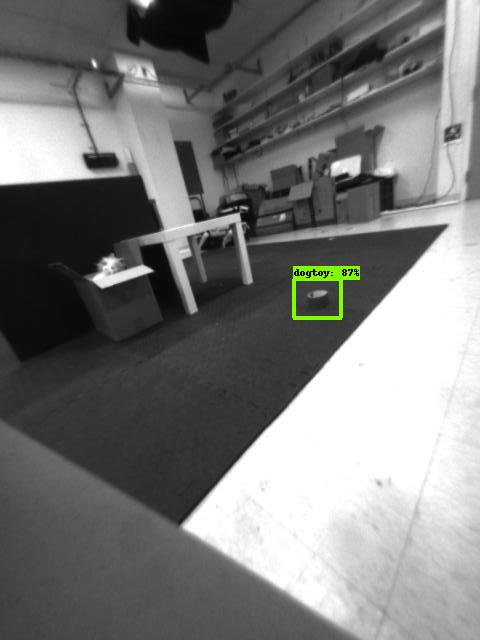dogtoy: (293, 283, 337, 317)
